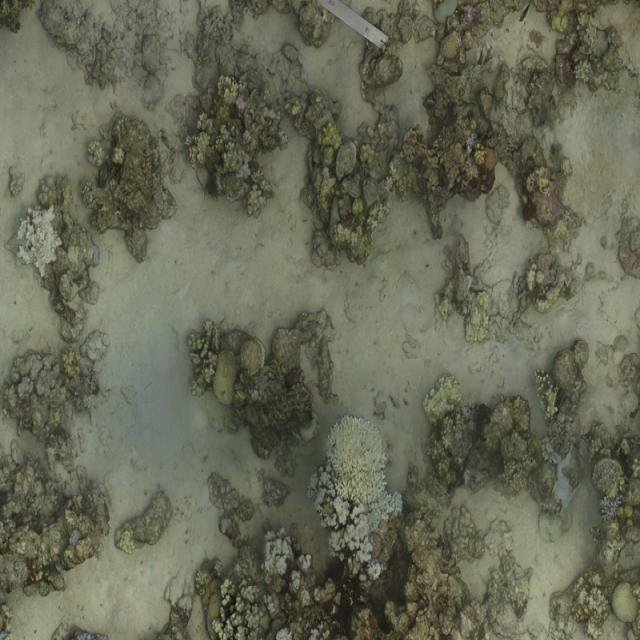Bleached Coral: (328, 410, 402, 566), (10, 194, 68, 279), (268, 519, 320, 600), (598, 490, 620, 524)
